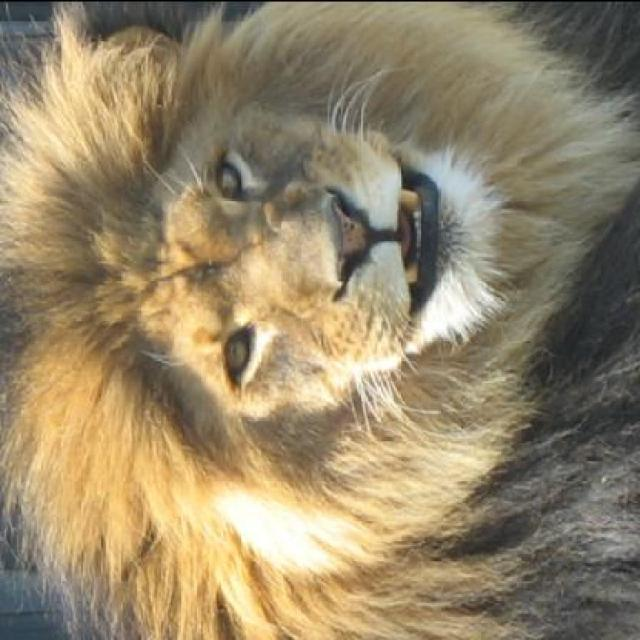Lion: (6, 7, 639, 636)
